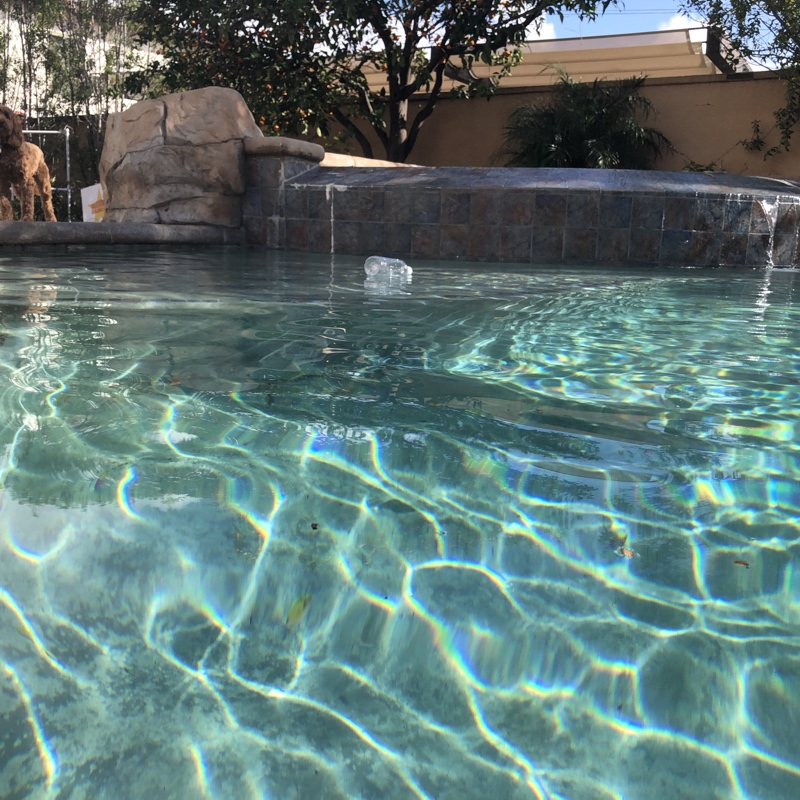Plastic Bottle: (358, 251, 414, 292)
